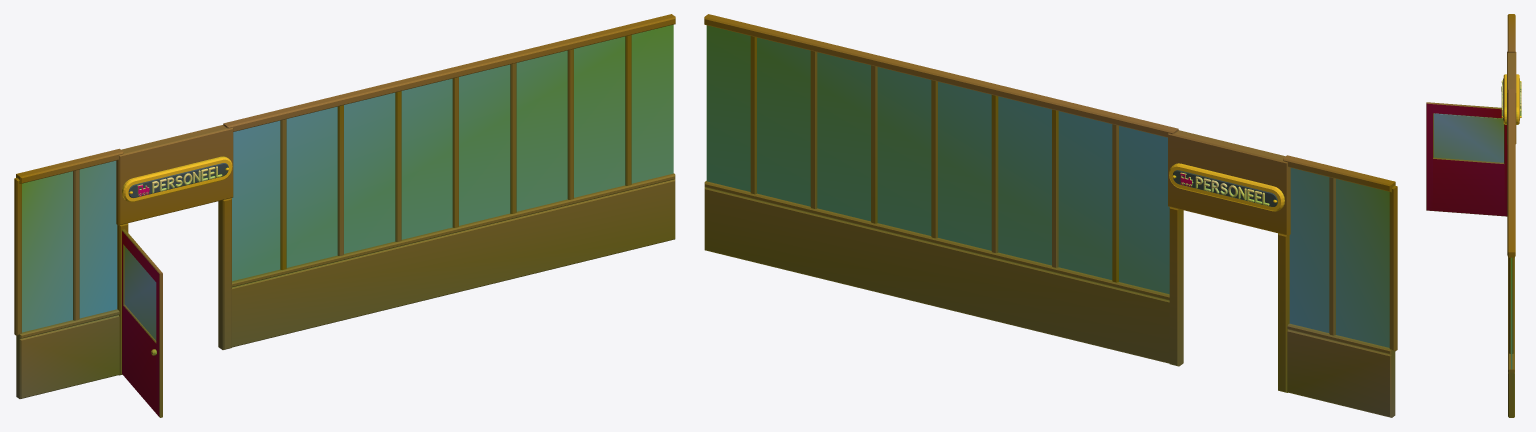
File: GS_Partition_Office.fbx
The picture shows the model from 3 angles, left to right: view 1: azimuth 30°, elevation 25°; view 2: azimuth 150°, elevation 25°; view 3: azimuth 270°, elevation 25°; orthographic projection. The views are drawn at different scales.
Visible parts, largest first — view 1: GS_Partition_Office, Sign_Room_Text; view 2: GS_Partition_Office, Sign_Room_Back_Text; view 3: GS_Partition_Office.
Boxes of the visible parts, x1,y1,x2,y2 form: GS_Partition_Office: [14, 14, 675, 417]; Sign_Room_Text: [152, 166, 222, 193]; GS_Partition_Office: [704, 14, 1397, 417]; Sign_Room_Back_Text: [1195, 176, 1269, 205]; GS_Partition_Office: [1426, 14, 1521, 417].
Size of the model in its own units: 11.45 by 3.7 by 1.93.
